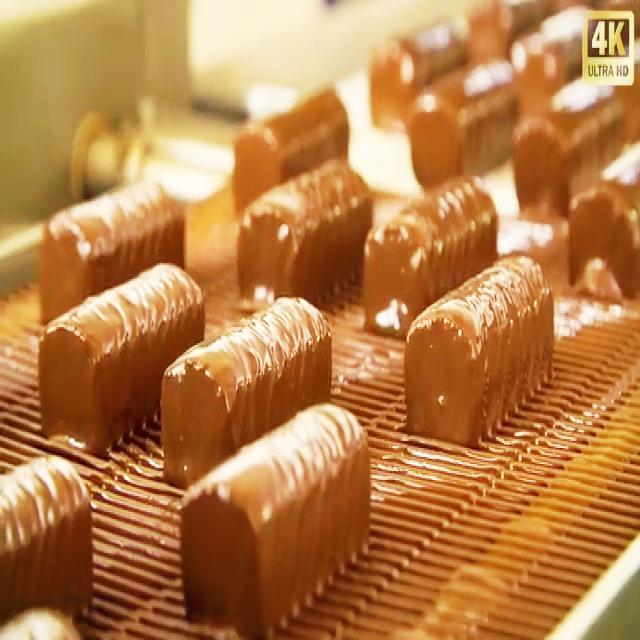Choco: (178, 398, 372, 631), (159, 292, 333, 486), (37, 256, 205, 452), (402, 251, 556, 446), (361, 170, 499, 338), (35, 169, 188, 317), (235, 155, 373, 304), (234, 75, 353, 215), (5, 427, 96, 603), (407, 63, 517, 186), (557, 163, 640, 305), (368, 22, 473, 134), (522, 94, 616, 203), (507, 20, 590, 93), (466, 0, 520, 57)
